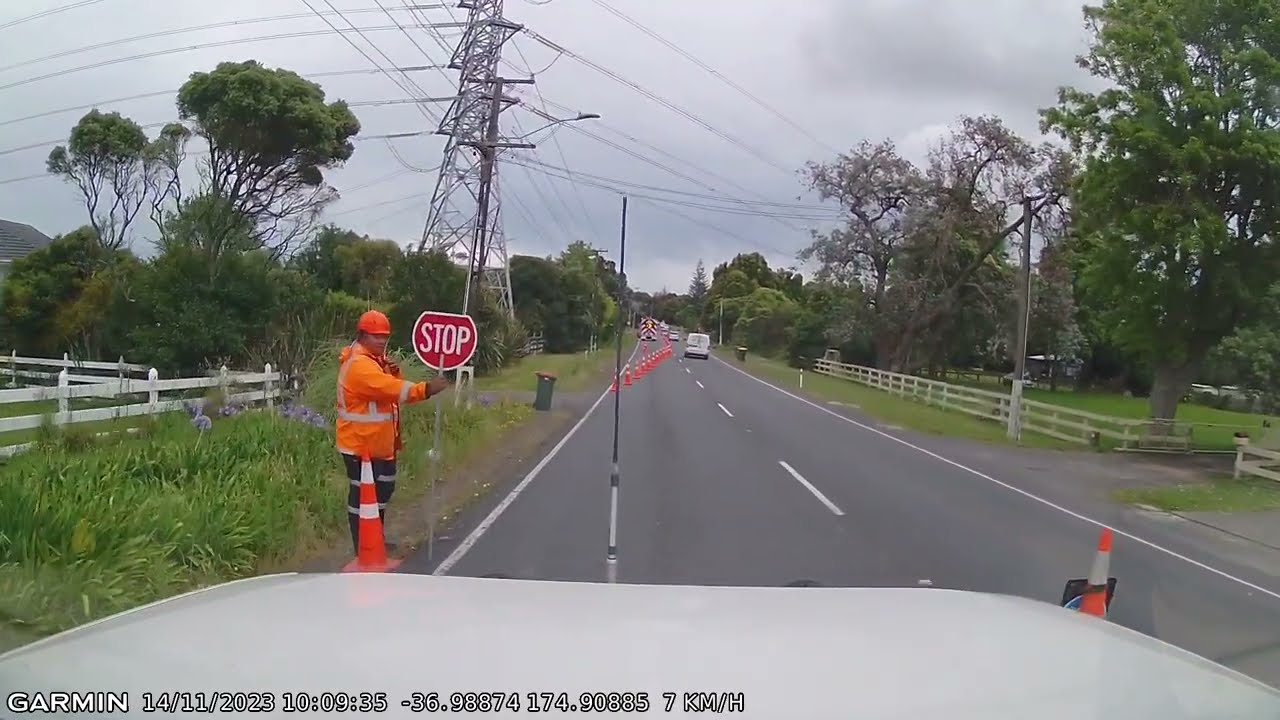StopSign: (411, 310, 476, 370)
